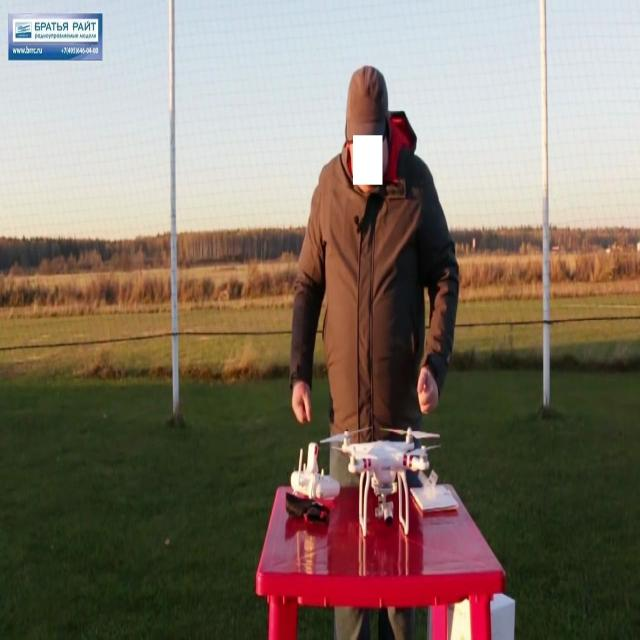Drone_FW: (318, 425, 442, 534)
